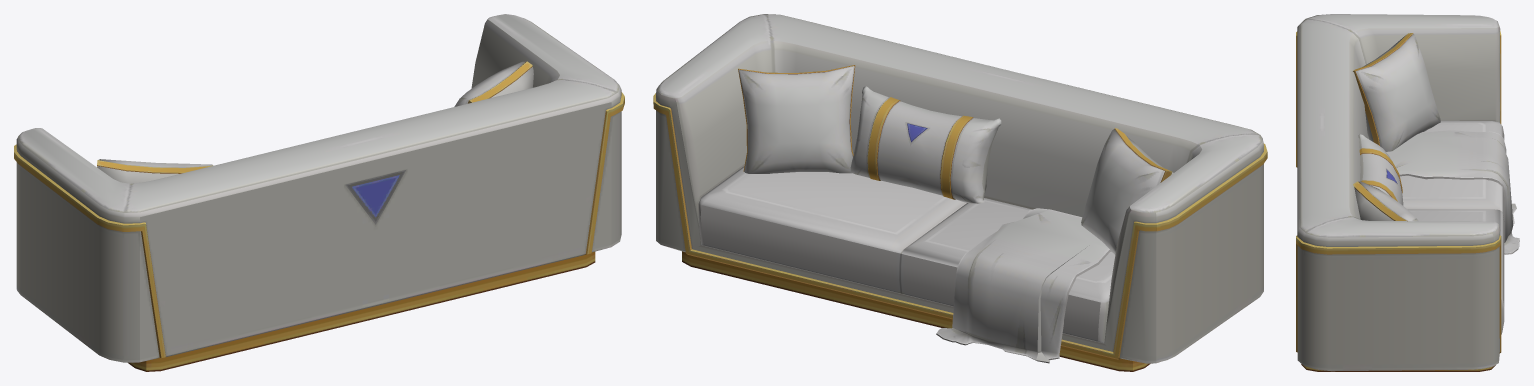
Rendered from furn_ab2024_sofa.gltf.
3 views of the same model, side by side, from view 1: azimuth 30°, elevation 25°; view 2: azimuth 150°, elevation 25°; view 3: azimuth 270°, elevation 25° (orthographic). The views are drawn at different scales.
Parts seen in each view (by area): view 1: ab2024_sofa; view 2: ab2024_sofa; view 3: ab2024_sofa.
Boxes of the visible parts, box(x1,y1,x2,y2) form: ab2024_sofa: box(14, 14, 624, 371); ab2024_sofa: box(653, 14, 1267, 371); ab2024_sofa: box(1296, 14, 1519, 371).
Size of the model in its own units: 2.03 by 0.6261 by 0.8443.
1 material, 1 textured.
